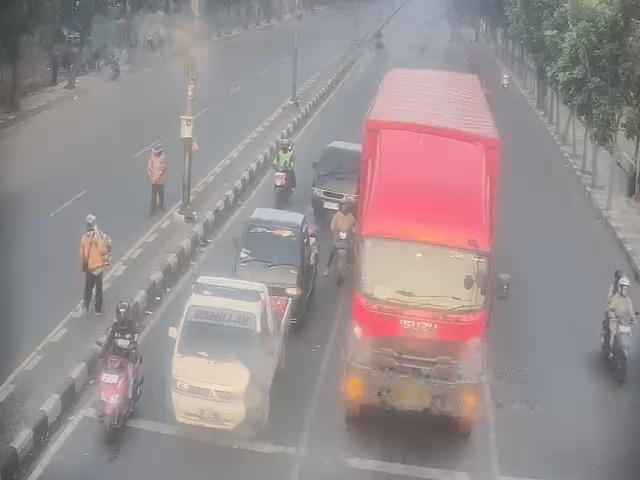Mobil: (178, 276, 290, 427), (237, 202, 310, 305), (314, 131, 361, 210)
Motor: (97, 366, 135, 431), (606, 311, 637, 356), (329, 229, 350, 272), (270, 164, 288, 198)
Truk: (364, 58, 498, 428)
